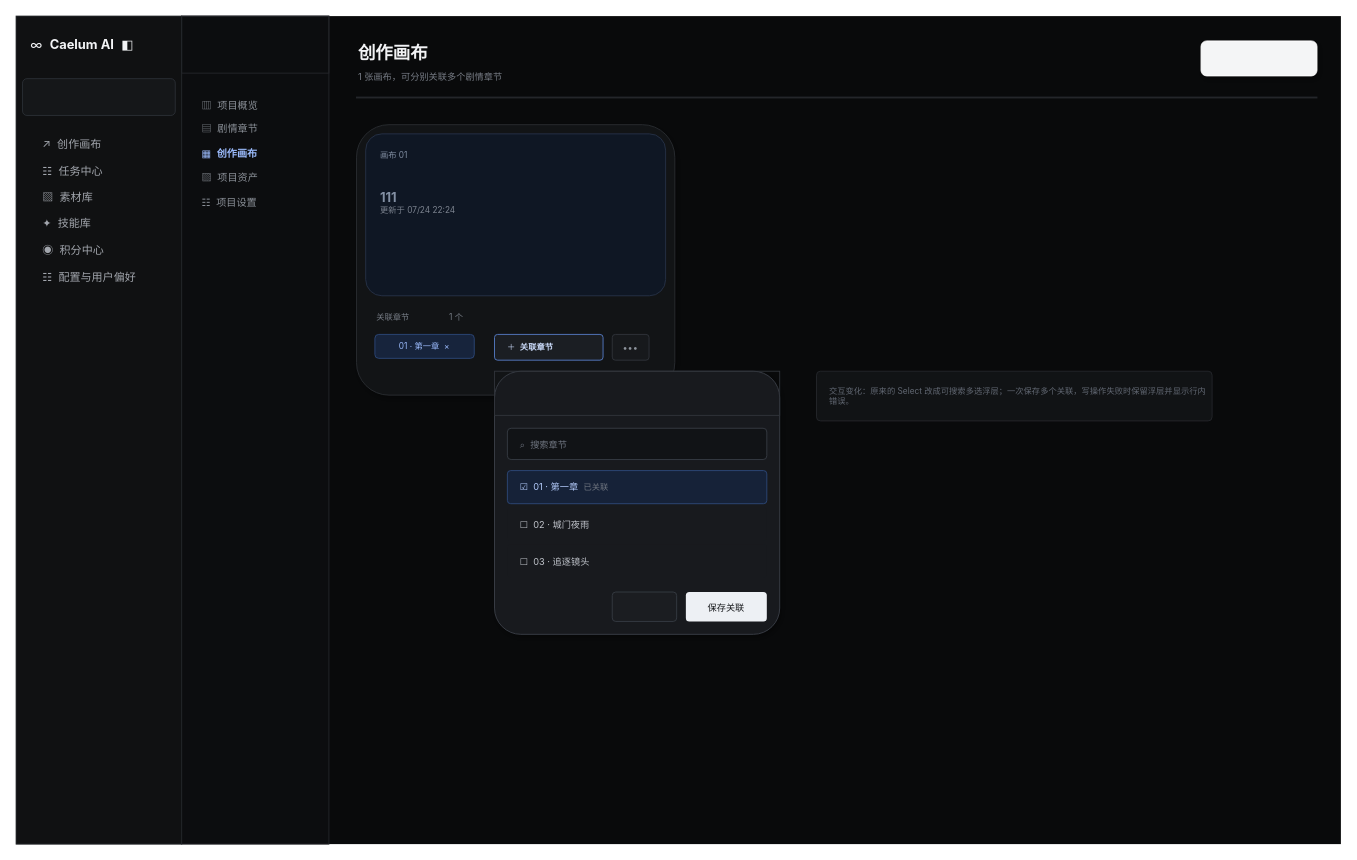
Image size: 1357x860. Some labels were removed from this diagram. Here are the shapes that lost their labels. From the top down, the centre of each, then its label:
At (255,44): "‹ ▱ 测试项目 1 ● 进行中".
At (1259,59): "＋ 新建画布".
At (98,96): "▣ 项目中心".
At (637,392): "关联剧情章节 ×".
At (644,606): "取消".
